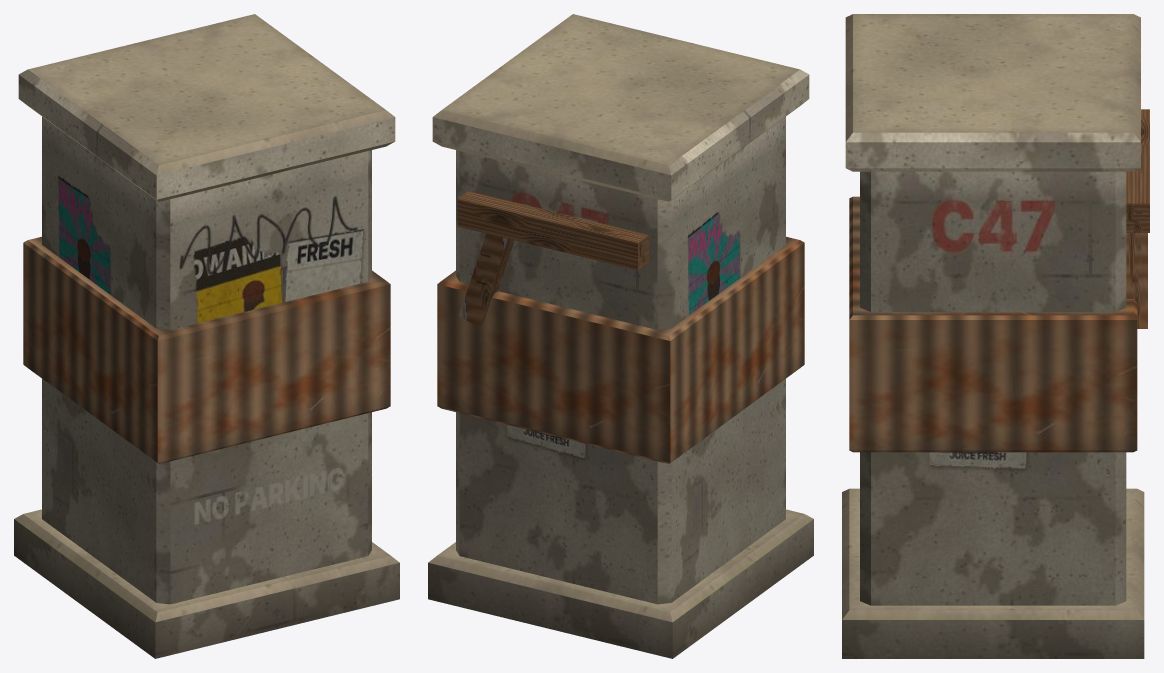
File: prop_pillar_market.glb
The picture shows the model from 3 angles, left to right: view 1: azimuth 30°, elevation 25°; view 2: azimuth 150°, elevation 25°; view 3: azimuth 270°, elevation 25°; orthographic projection. The views are drawn at different scales.
Visible parts, largest first — view 1: prop_pillar_market_body; view 2: prop_pillar_market_body; view 3: prop_pillar_market_body.
Part boxes in pixels (x1,y1,x2,y2): prop_pillar_market_body: [14, 14, 399, 658]; prop_pillar_market_body: [428, 14, 813, 658]; prop_pillar_market_body: [842, 14, 1149, 658].
Bounding box in the file's own units: 0.84 × 1.6 × 0.855.
Materials: 1 (1 with a texture image).
